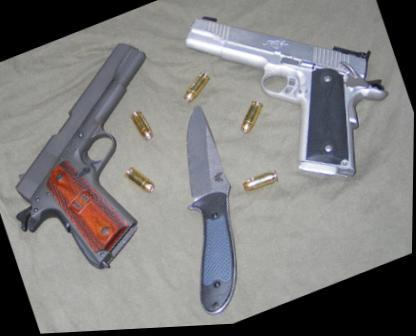pistol: (0, 32, 208, 294), (173, 0, 411, 224)
